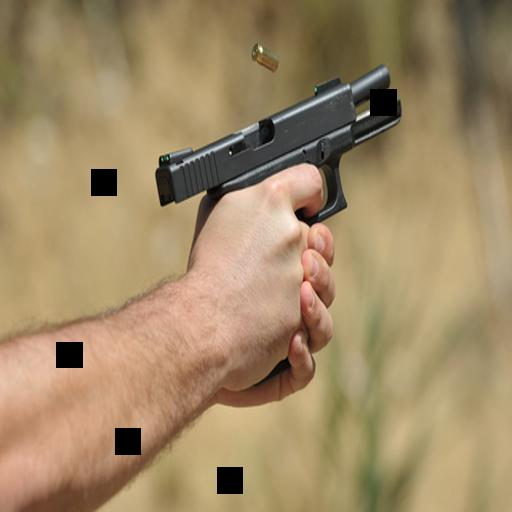Handgun: (154, 60, 406, 389)
